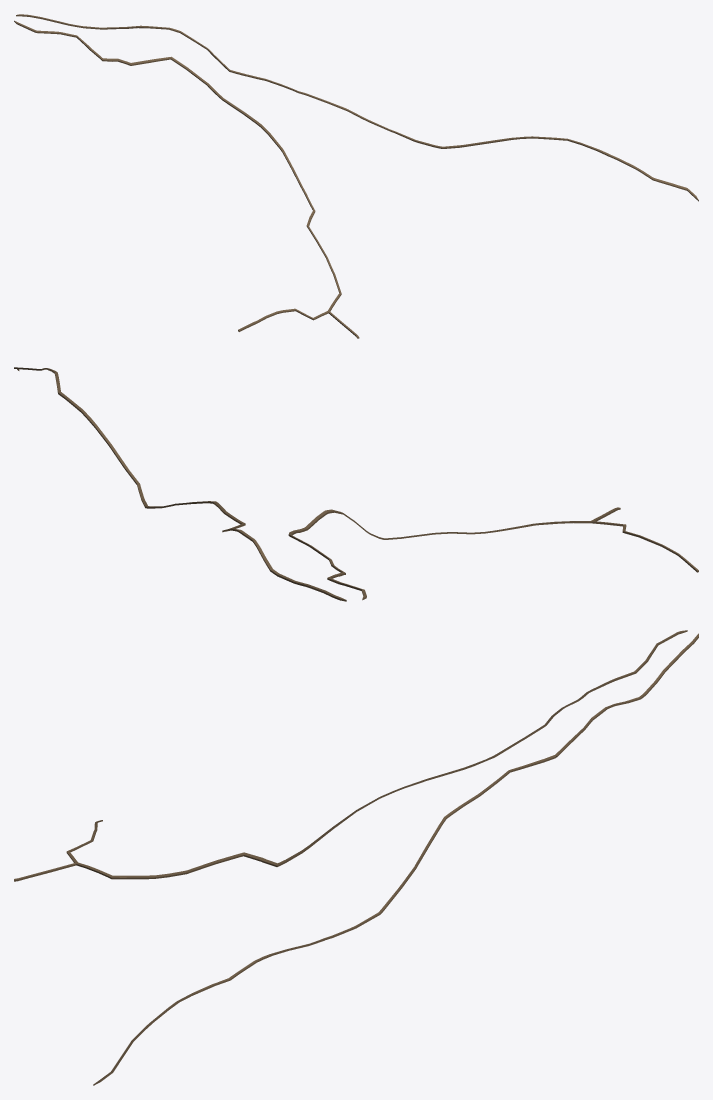
File: 17-109458-59483.3096fff5.glb
The picture shows the model from 3 angles, top to bottom: view 1: azimuth 30°, elevation 25°; view 2: azimuth 150°, elevation 25°; view 3: azimuth 270°, elevation 25°; orthographic projection. The views are drawn at different scales.
Size of the model in its own units: 293 by 92.58 by 292.
